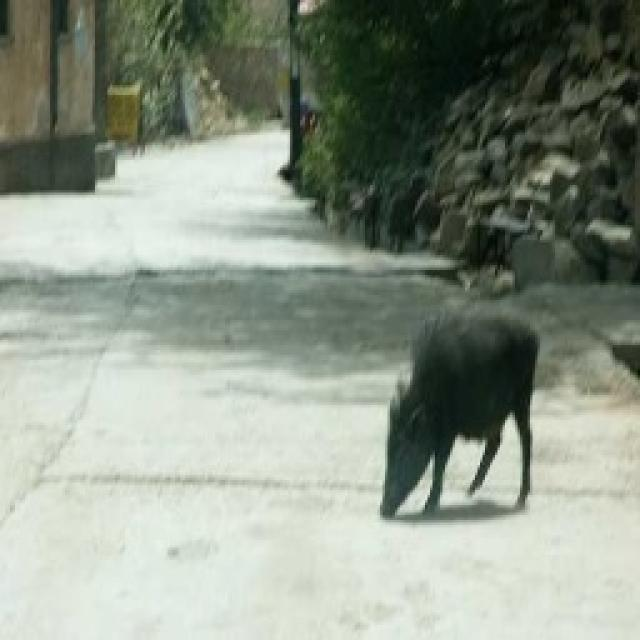pig: (378, 298, 540, 518)
